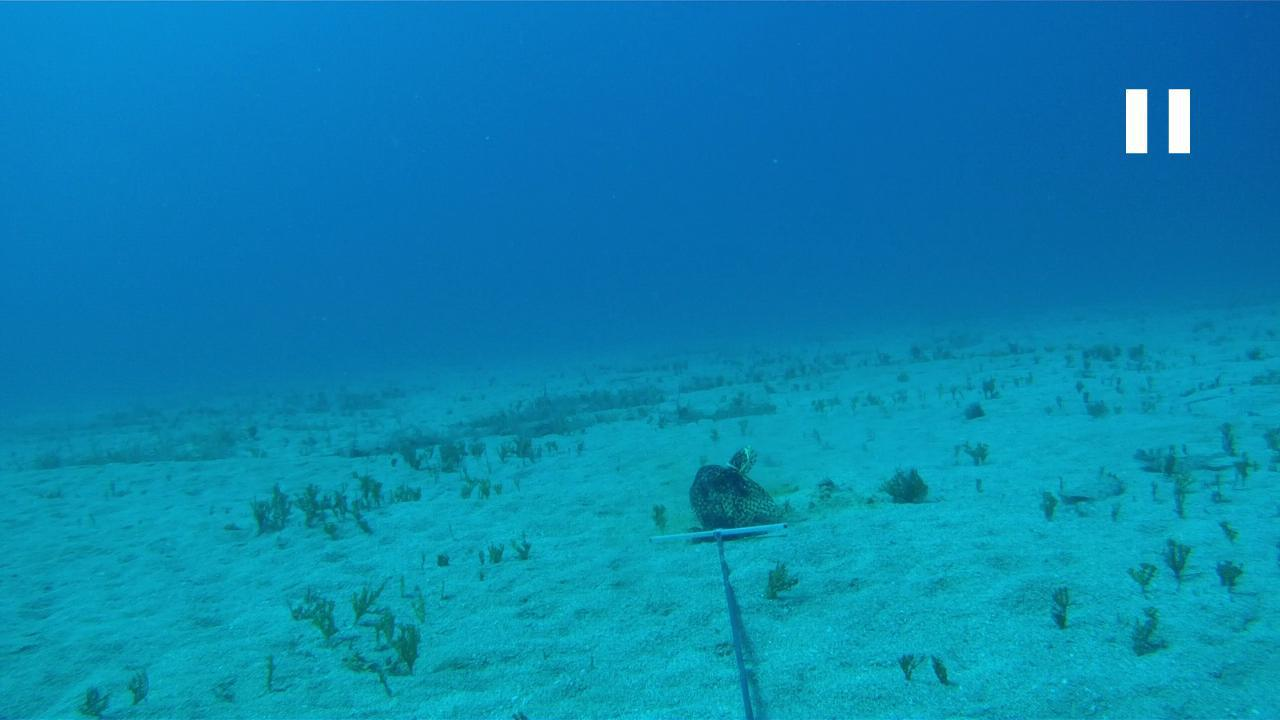bothus: (1135, 445, 1250, 472), (1049, 468, 1122, 506)
